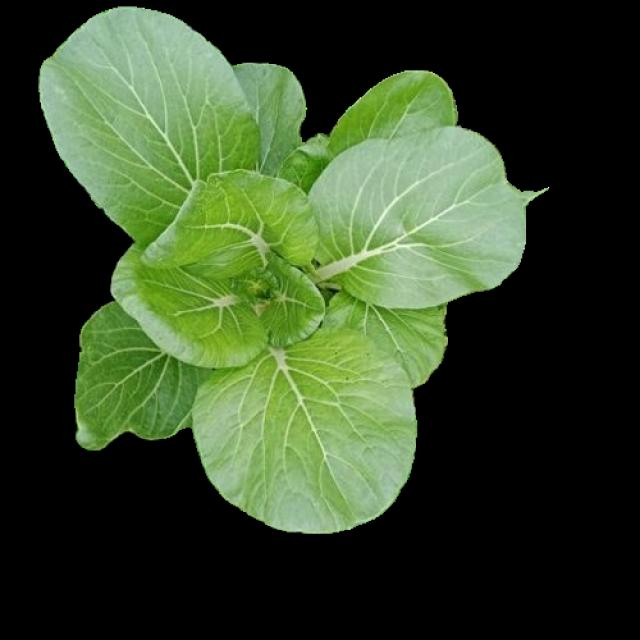healthy: (39, 10, 522, 532)
mature: (41, 13, 525, 535)
